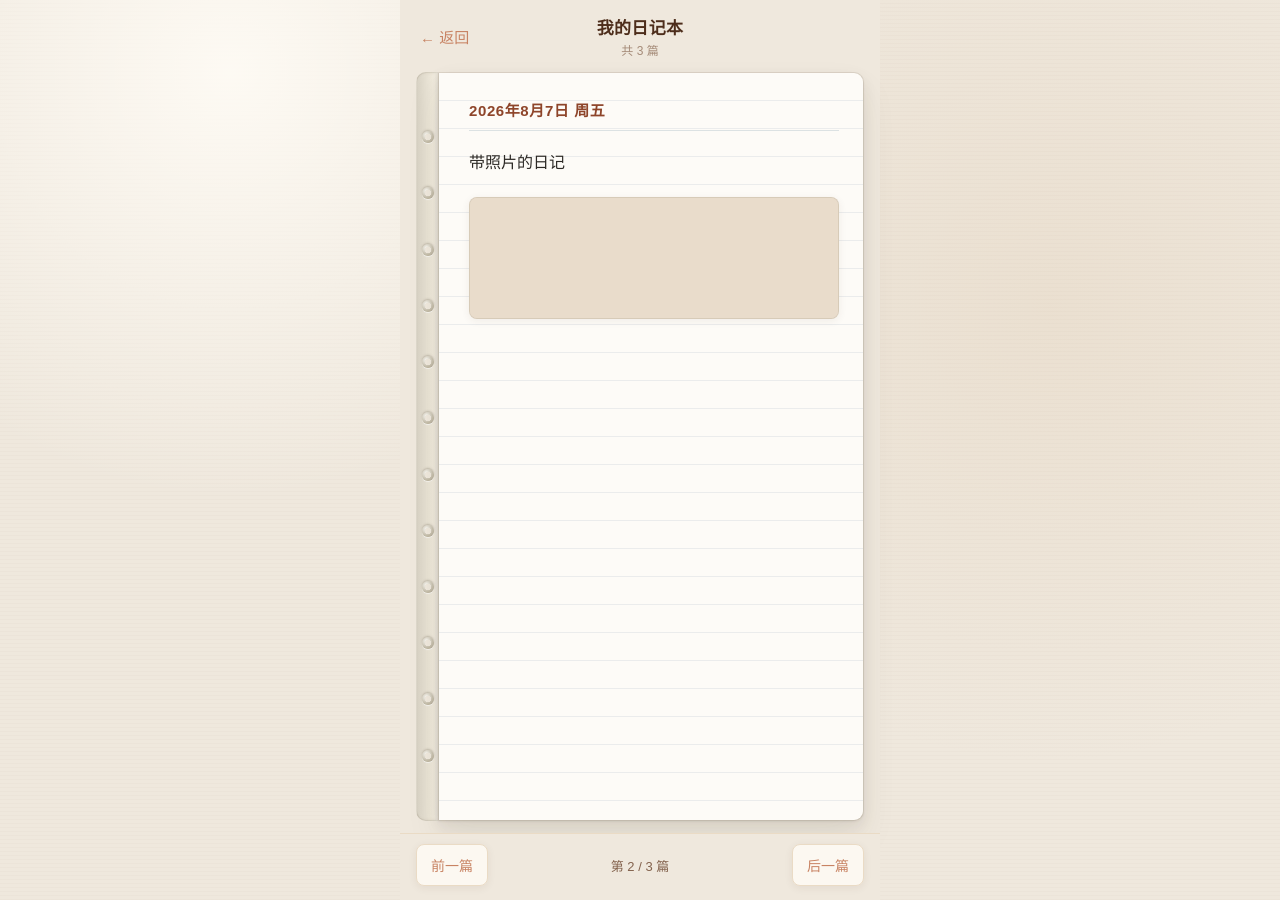
Test case: DiaryNotebook › image error falls back to the SafeImage placeholder while text, turning and indicator keep working
The width and height of the screenshot is (1280, 900).
Later steps or results of the test are not shown.
Check: the picture named "照片暂时无法显示" is shown, box [470,198,838,318]
Check: the text "带照片的日记" is shown, box [469,154,565,171]
Click the button "后一篇": (828,865) [792,844,864,886]
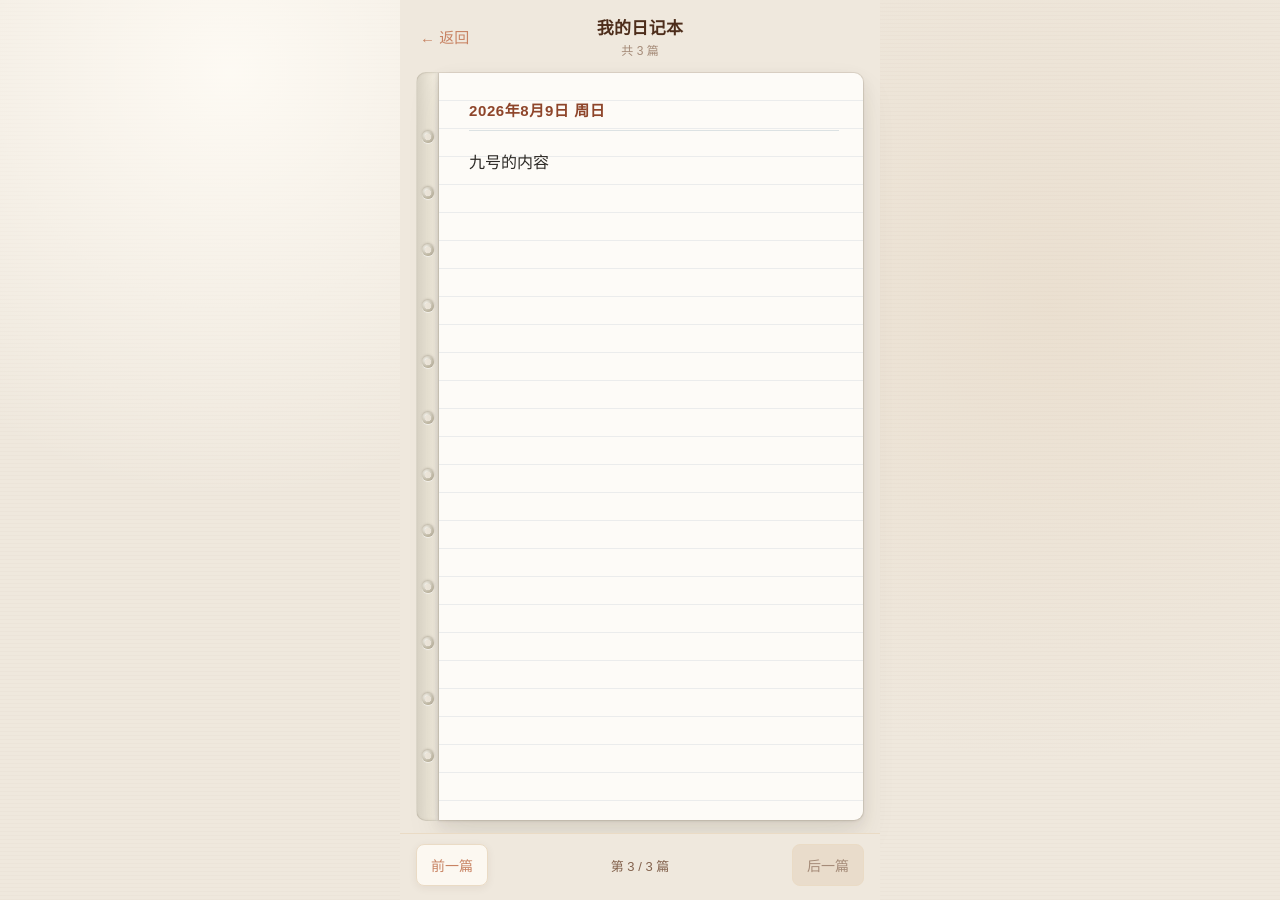
Check: the text "九号的内容" is shown, box [469,154,549,171]
